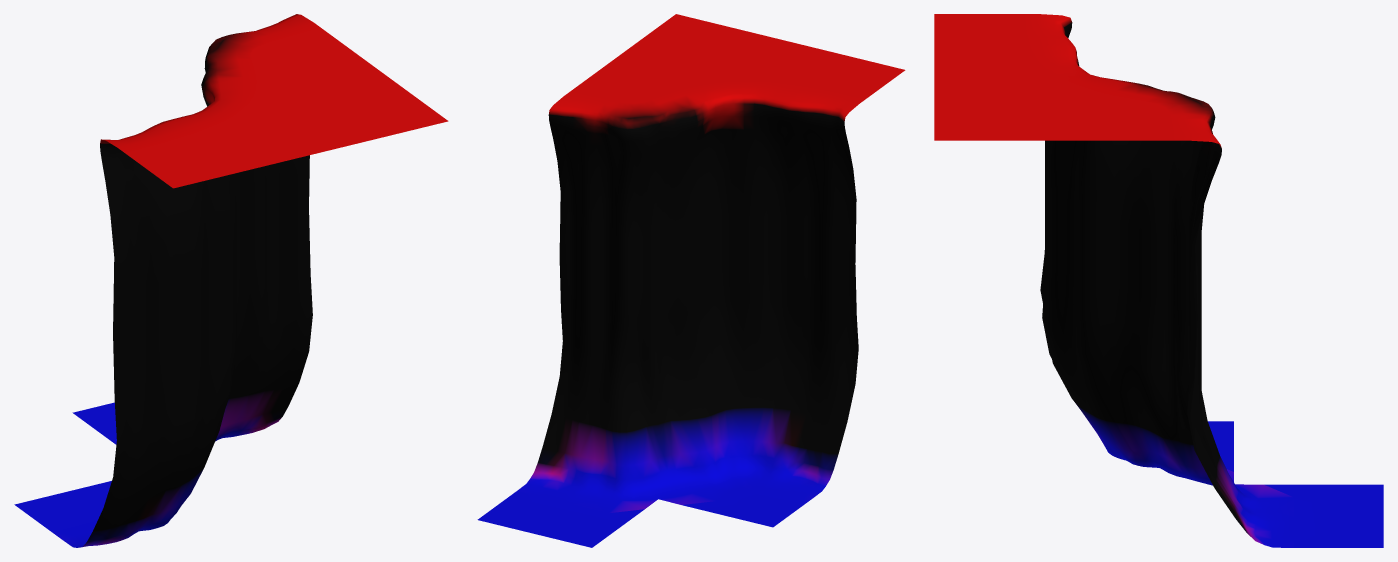
The model's file is GroundCliff05A 3M for Water Foreground.fbx.
3 renders of one model, left to right at view 1: azimuth 30°, elevation 25°; view 2: azimuth 150°, elevation 25°; view 3: azimuth 270°, elevation 25°, orthographic. The views are drawn at different scales.
Parts seen in each view (by area): view 1: GroundCliff05A 3M for Water Foreground; view 2: GroundCliff05A 3M for Water Foreground; view 3: GroundCliff05A 3M for Water Foreground.
Boxes of the visible parts, x1,y1,x2,y2 form: GroundCliff05A 3M for Water Foreground: (14, 14, 448, 547); GroundCliff05A 3M for Water Foreground: (477, 14, 905, 547); GroundCliff05A 3M for Water Foreground: (934, 14, 1383, 547).
Bounding box in the file's own units: 2 × 3 × 3.
